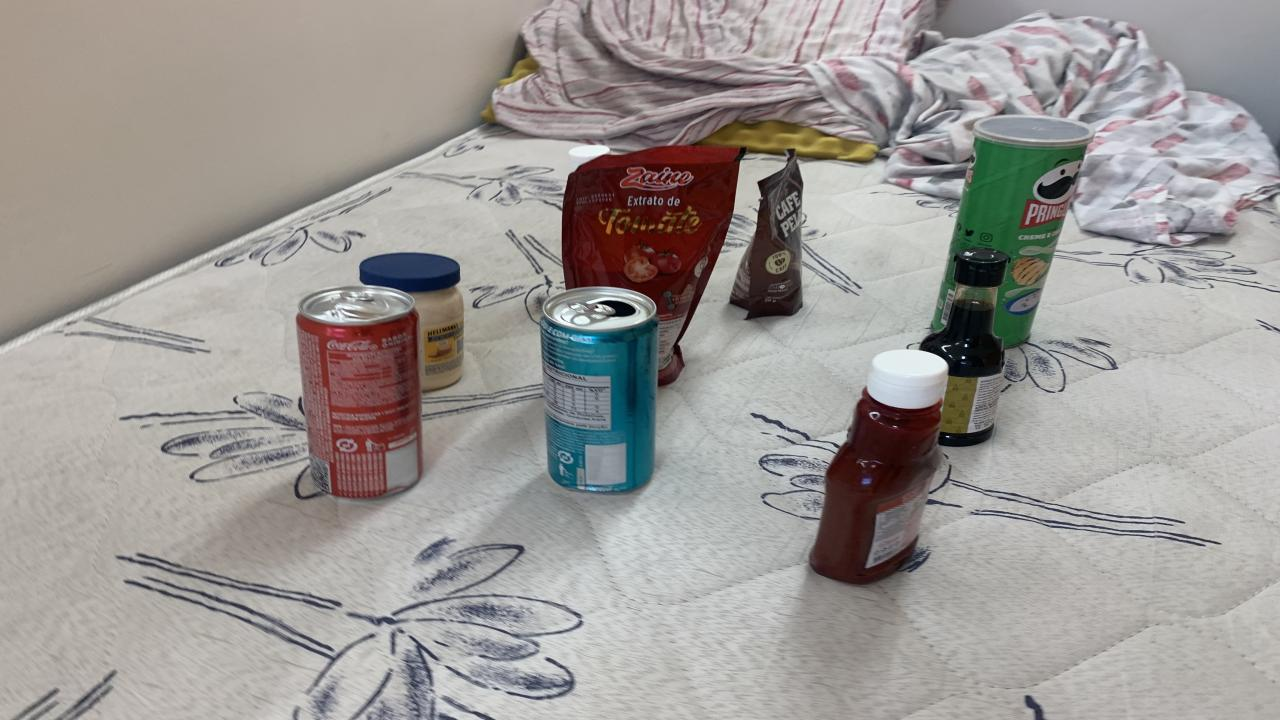Coffee-Pantry_Items: (730, 150, 802, 319)
English_Sauce-Pantry_Items: (920, 248, 1010, 446)
Ketchup-Pantry_Items: (810, 351, 950, 583), (298, 285, 422, 499)
Mayonnaise-Pantry_Items: (360, 253, 465, 390)
Pringles-Snacks: (932, 114, 1095, 347)
Tea-Drinks: (540, 287, 658, 493)
Tomato_Sauce-Pantry_Items: (562, 146, 742, 384)
